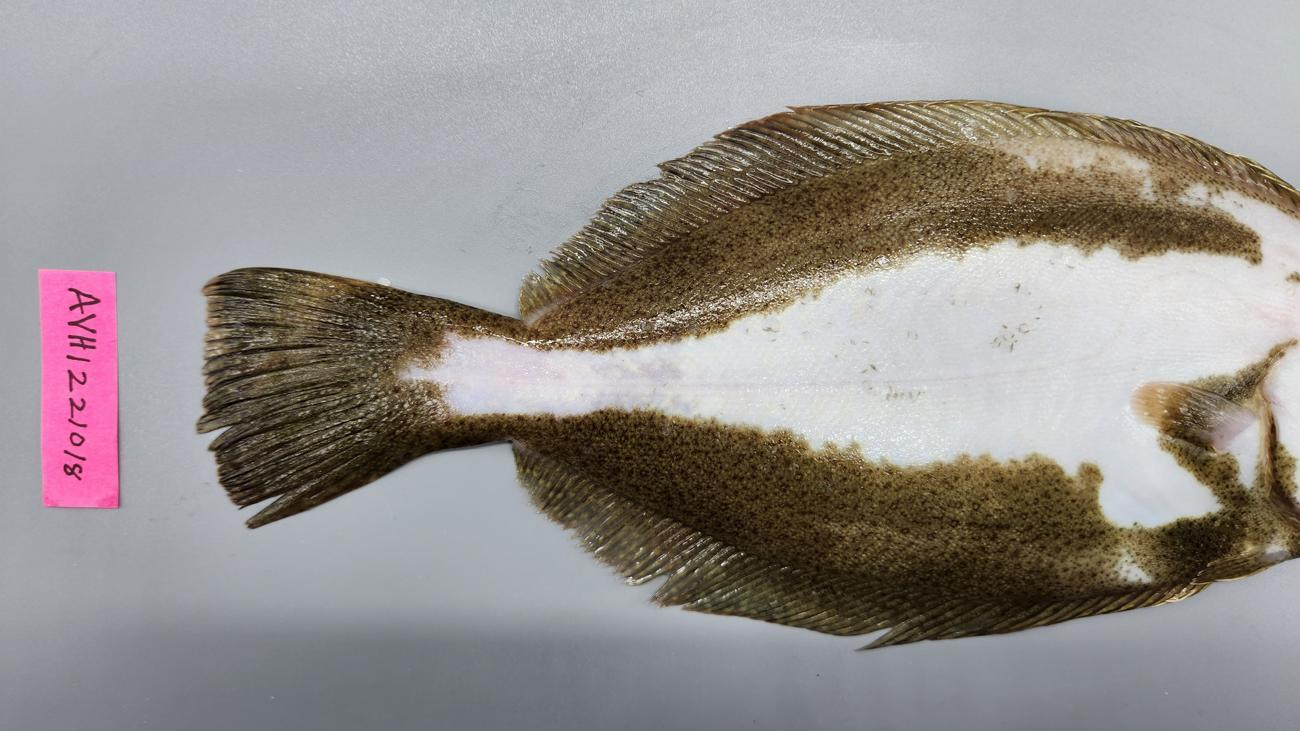VIDYH: (426, 160, 922, 396), (1126, 151, 1299, 351)
